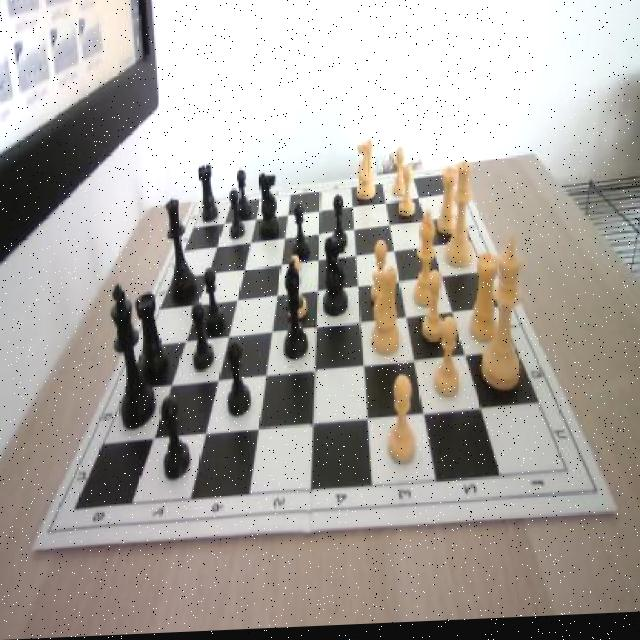bishop: (282, 263, 310, 361)
black-bishop: (111, 285, 155, 431)
black-king: (322, 237, 349, 319), (256, 167, 282, 244)
black-knight: (162, 396, 190, 481), (224, 340, 250, 418), (192, 303, 216, 373), (203, 267, 225, 336), (328, 198, 348, 256), (291, 205, 309, 262), (229, 190, 245, 243), (235, 171, 251, 222)
black-pawn: (165, 198, 197, 304)
black-queen: (136, 291, 168, 380), (198, 166, 217, 224)
black-rook: (414, 214, 440, 312)
white-bishop: (481, 234, 523, 395)
white-king: (367, 260, 406, 362), (354, 139, 377, 204)
white-knight: (386, 378, 419, 469), (432, 318, 463, 403), (420, 272, 448, 349), (370, 243, 394, 312), (286, 255, 306, 322), (391, 153, 409, 203), (398, 168, 415, 219)
white-pawn: (443, 163, 475, 271)
white-queen: (469, 252, 498, 347), (438, 169, 460, 242)
